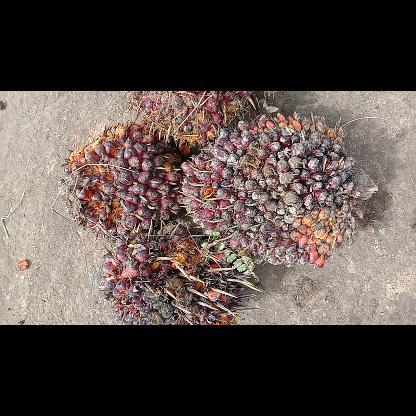Kurang masak: (173, 110, 378, 270), (118, 91, 276, 148)
TBS masak: (100, 216, 262, 324), (61, 117, 190, 243)
